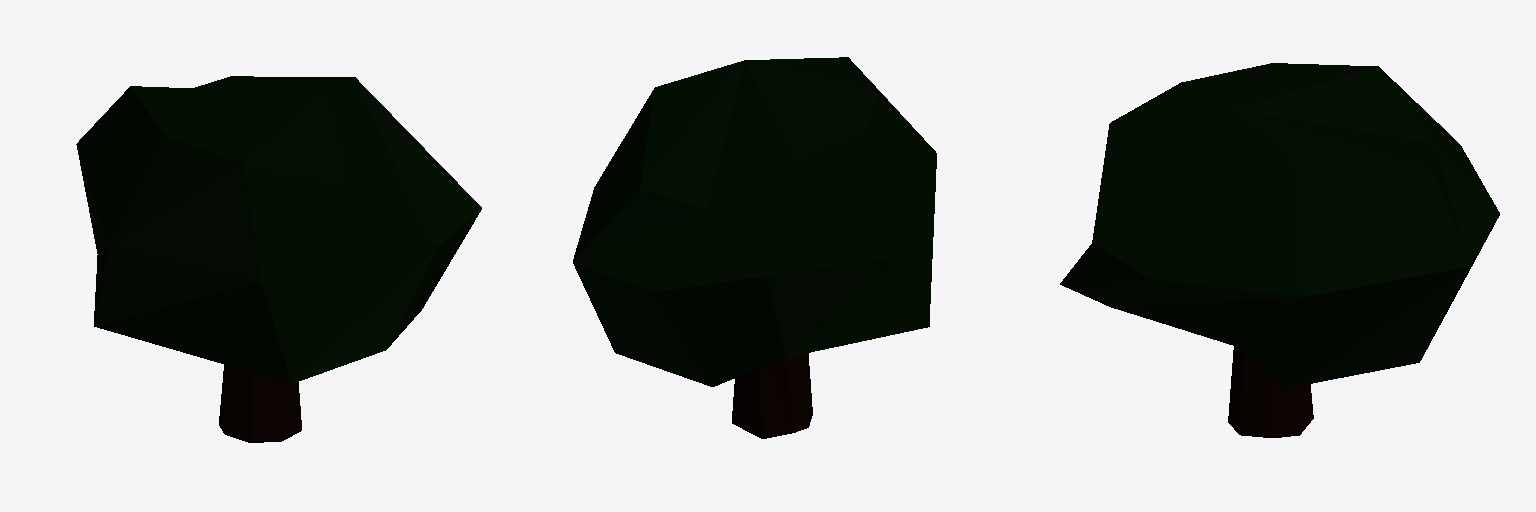
Rendered from bush-2.obj.
3 renders of one model, left to right at view 1: azimuth 30°, elevation 25°; view 2: azimuth 150°, elevation 25°; view 3: azimuth 270°, elevation 25°, orthographic.
Visible parts, largest first — view 1: bush, stem; view 2: bush, stem; view 3: bush, stem.
Boxes of the visible parts, box(x1,y1,x2,y2) form: bush: box(76, 76, 481, 383); stem: box(219, 365, 301, 442); bush: box(573, 57, 936, 386); stem: box(732, 353, 812, 438); bush: box(1060, 63, 1499, 388); stem: box(1228, 346, 1313, 437).
Size of the model in its own units: 1.4 by 1.39 by 1.65.